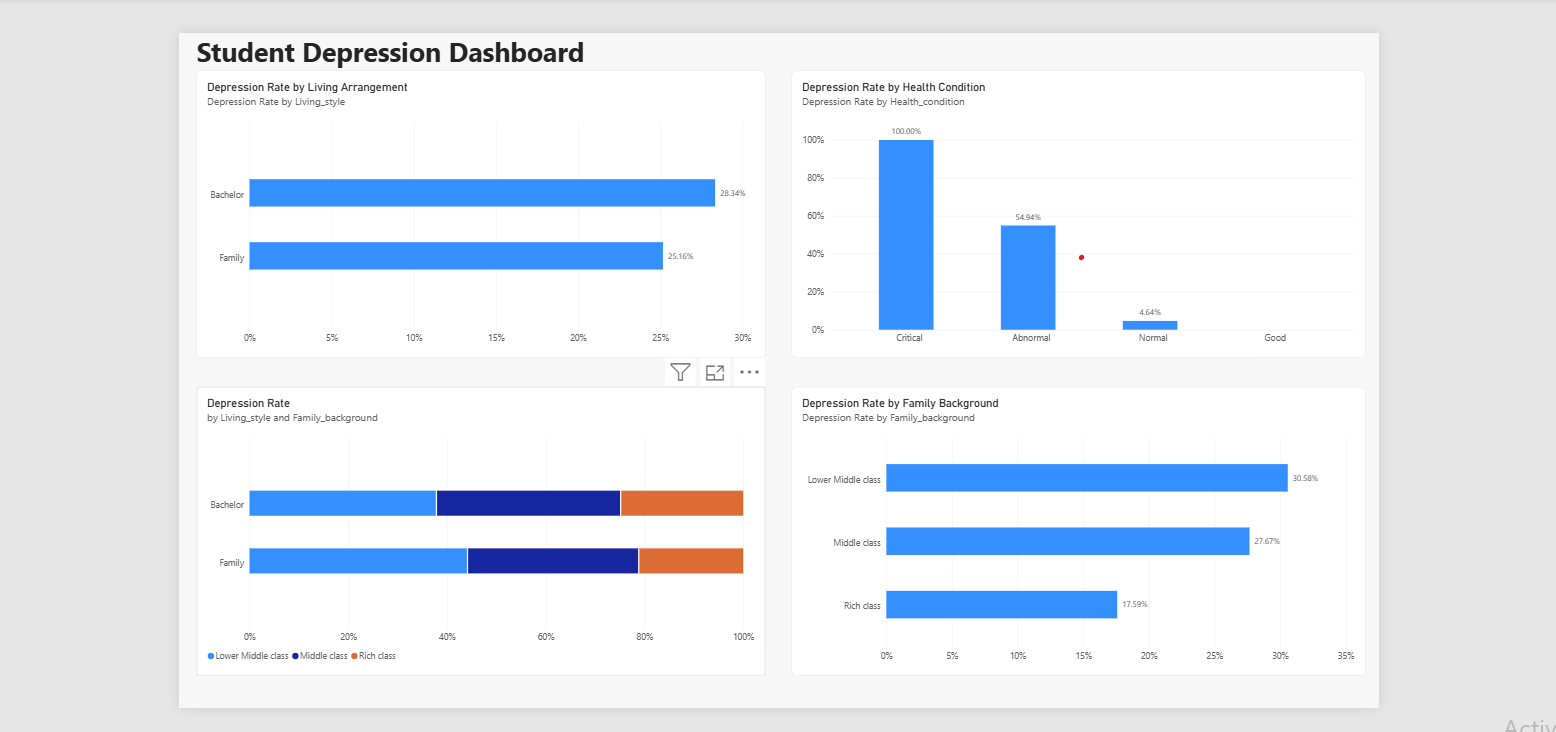

What the dashboard file says about the page in this screenshot:
{"tool":"powerbi","page":{"name":"Factors Analysis","canvas":[1920,1080],"ordinal":1},"visuals":[{"type":"textbox","box":[28,0,884,60],"z":0},{"type":"clusteredColumnChart","title":"Depression Rate by Health Condition","fields":{"Category":["Student_Cleaned.Health_condition"],"Y":["Student_Cleaned.Depression Rate"]},"box":[980,60,918,460],"z":1000},{"type":"hundredPercentStackedBarChart","fields":{"Category":["Student_Cleaned.Living_style"],"Series":["Student_Cleaned.Family_background"],"Y":["Student_Cleaned.Depression Rate"]},"box":[28,566,910,462],"z":2000},{"type":"clusteredBarChart","title":"Depression Rate by Living Arrangement","fields":{"Category":["Student_Cleaned.Living_style"],"Y":["Student_Cleaned.Depression Rate"]},"box":[28,60,910,460],"z":6000},{"type":"clusteredBarChart","title":"Depression Rate by Family Background","fields":{"Category":["Student_Cleaned.Family_background"],"Y":["Student_Cleaned.Depression Rate"]},"box":[980,566,918,462],"z":7000}]}

Visuals, with their boxes on the page's 1920x1080 design canvas (x1, y1, x2, y2). These are canvas units, not pixel positions in the 1556x732 screenshot, which may show the page scaled, cropped or inside an application window:
textbox: Rect(28, 0, 912, 60)
"Depression Rate by Health Condition" clusteredColumnChart: Rect(980, 60, 1898, 520)
hundredPercentStackedBarChart - Student_Cleaned.Living_style x Student_Cleaned.Family_background: Rect(28, 566, 938, 1028)
"Depression Rate by Living Arrangement" clusteredBarChart: Rect(28, 60, 938, 520)
"Depression Rate by Family Background" clusteredBarChart: Rect(980, 566, 1898, 1028)
